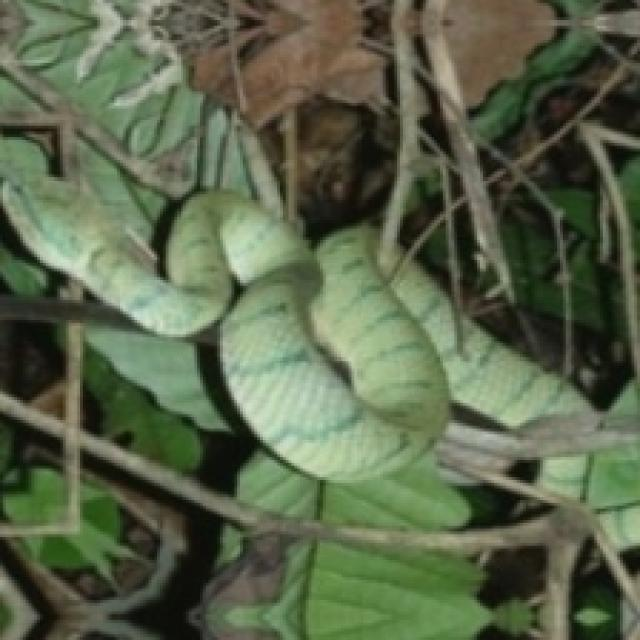north ph temple pitviper: (0, 140, 589, 477)
